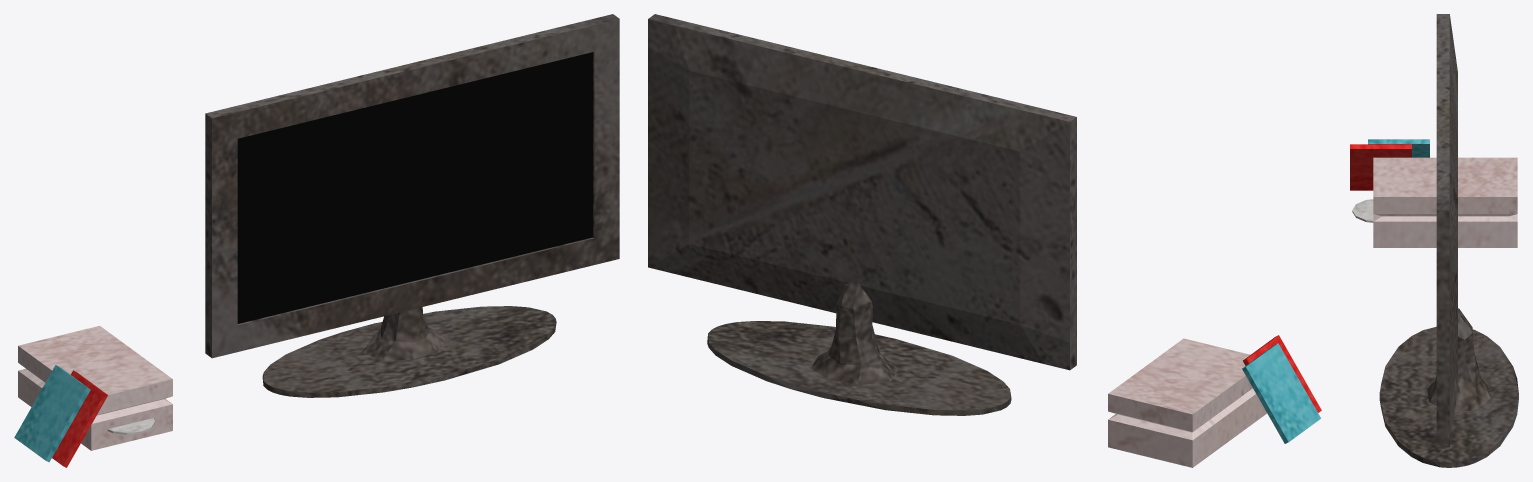
3 renders of one model, left to right at view 1: azimuth 30°, elevation 25°; view 2: azimuth 150°, elevation 25°; view 3: azimuth 270°, elevation 25°, orthographic. The views are drawn at different scales.
Visible parts, largest first — view 1: Hülle_2; view 2: Hülle_2; view 3: Hülle_2.
Part boxes in pixels (<box>): Hülle_2: <box>14,14,619,467</box>; Hülle_2: <box>648,14,1321,467</box>; Hülle_2: <box>1350,14,1518,467</box>.
Size of the model in its own units: 597 by 273 by 145.
